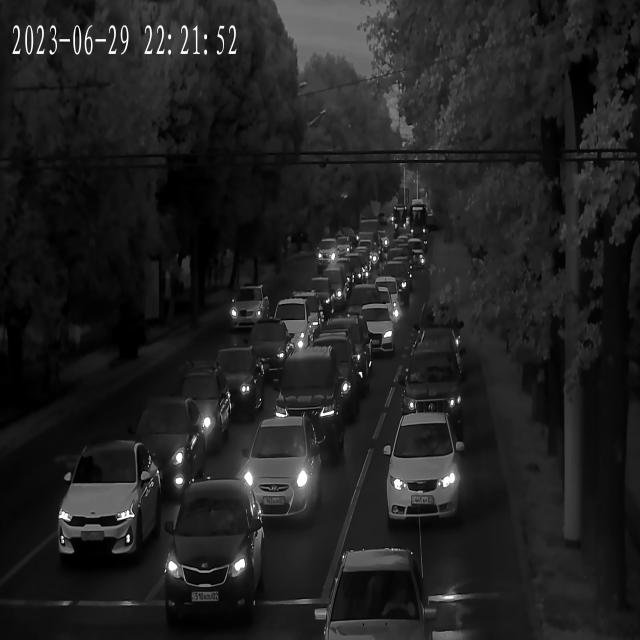Car: (164, 481, 263, 622), (56, 438, 162, 565), (383, 411, 464, 528), (317, 545, 430, 628), (241, 419, 324, 521), (124, 398, 206, 498), (267, 349, 344, 435), (395, 350, 464, 429), (169, 368, 234, 449), (206, 348, 265, 416), (303, 322, 371, 377), (240, 324, 300, 377), (344, 303, 397, 355), (343, 285, 397, 330), (270, 297, 320, 344), (364, 274, 406, 322), (226, 286, 272, 329), (284, 291, 332, 330), (299, 279, 340, 315), (372, 263, 411, 299), (312, 270, 349, 304), (401, 242, 426, 266), (351, 244, 376, 266), (316, 241, 338, 263), (333, 235, 352, 252)
